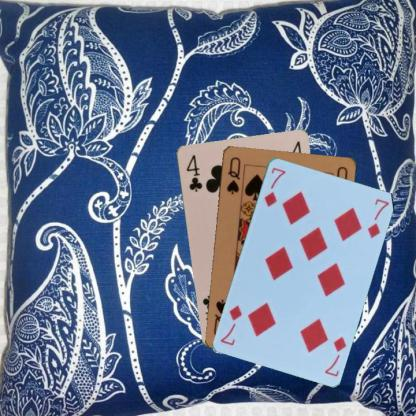4c: (184, 152, 204, 193)
7d: (261, 164, 287, 208), (322, 333, 347, 378)
Qs: (223, 154, 242, 196)
